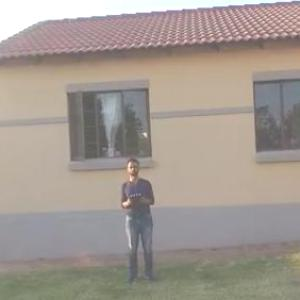follow: (118, 152, 161, 292)
